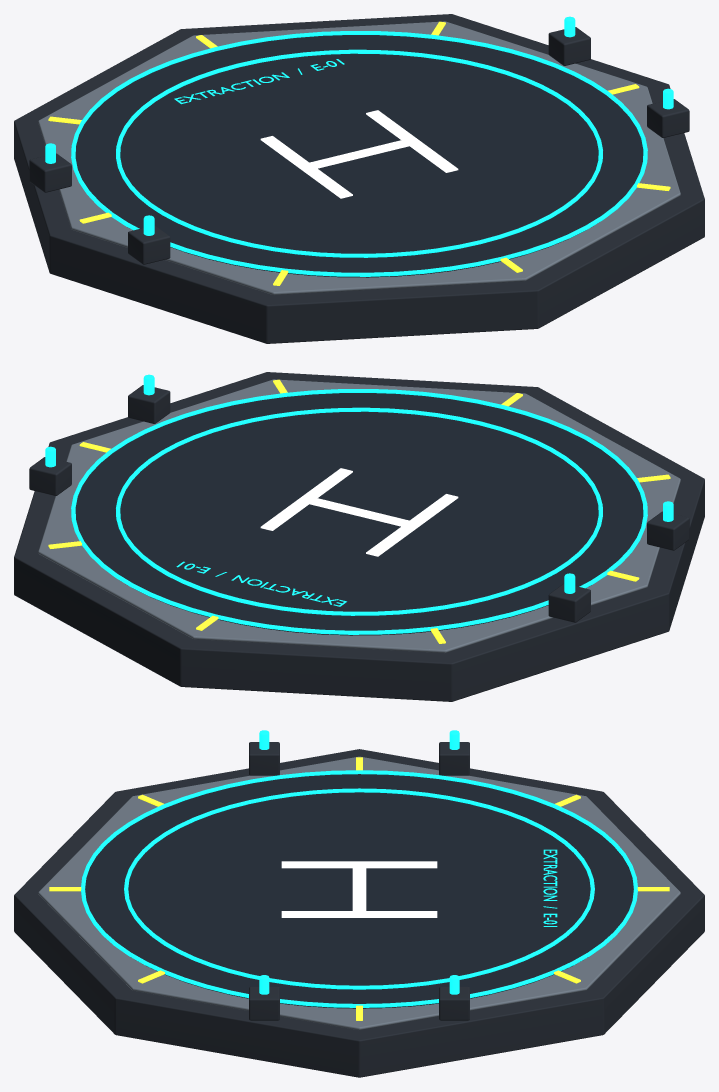
File: extraction_point.glb
3 renders of one model, top to bottom at view 1: azimuth 30°, elevation 25°; view 2: azimuth 150°, elevation 25°; view 3: azimuth 270°, elevation 25°, orthographic. The views are drawn at different scales.
Parts seen in each view (by area): view 1: Obsidian_deck_center, Octagonal_landing_platform, Landing_deck, Holographic_landing_marker.001, Holographic_landing_marker, Beacon_base.002, Beacon_base.001, Beacon_base.003, Beacon_base, H_landing_mark, H_landing_mark.001, H_landing_crossbar (+1 smaller); view 2: Obsidian_deck_center, Octagonal_landing_platform, Landing_deck, Holographic_landing_marker.001, Holographic_landing_marker, Beacon_base.003, Beacon_base, Beacon_base.002, Beacon_base.001, H_landing_mark, H_landing_mark.001, H_landing_crossbar (+1 smaller); view 3: Obsidian_deck_center, Octagonal_landing_platform, Landing_deck, Holographic_landing_marker.001, Holographic_landing_marker, H_landing_mark, H_landing_mark.001, Beacon_base.002, Beacon_base.003, Beacon_base, Beacon_base.001, H_landing_crossbar (+1 smaller).
Part boxes in pixels (x1=…): Obsidian_deck_center: x1=75, y1=35, x2=643, y2=277; Octagonal_landing_platform: x1=14, y1=14, x2=704, y2=343; Landing_deck: x1=38, y1=21, x2=680, y2=295; Holographic_landing_marker.001: x1=71, y1=31, x2=647, y2=276; Holographic_landing_marker: x1=116, y1=49, x2=602, y2=257; Beacon_base.002: x1=647, y1=99, x2=689, y2=137; Beacon_base.001: x1=29, y1=153, x2=71, y2=192; Beacon_base.003: x1=548, y1=27, x2=590, y2=65; Beacon_base: x1=128, y1=225, x2=170, y2=264; H_landing_mark: x1=260, y1=136, x2=352, y2=198; H_landing_mark.001: x1=366, y1=110, x2=458, y2=172; H_landing_crossbar: x1=299, y1=137, x2=419, y2=170; Obsidian_deck_center: x1=75, y1=393, x2=643, y2=635; Octagonal_landing_platform: x1=14, y1=372, x2=704, y2=701; Landing_deck: x1=38, y1=379, x2=680, y2=653; Holographic_landing_marker.001: x1=71, y1=389, x2=647, y2=634; Holographic_landing_marker: x1=116, y1=407, x2=602, y2=615; Beacon_base.003: x1=29, y1=457, x2=71, y2=495; Beacon_base: x1=647, y1=511, x2=689, y2=550; Beacon_base.002: x1=128, y1=385, x2=170, y2=423; Beacon_base.001: x1=548, y1=583, x2=590, y2=622; H_landing_mark: x1=366, y1=494, x2=458, y2=556; H_landing_mark.001: x1=260, y1=468, x2=352, y2=530; H_landing_crossbar: x1=299, y1=495, x2=419, y2=528; Obsidian_deck_center: x1=85, y1=774, x2=633, y2=1008; Octagonal_landing_platform: x1=14, y1=749, x2=704, y2=1077; Landing_deck: x1=38, y1=756, x2=680, y2=1030; Holographic_landing_marker.001: x1=81, y1=770, x2=637, y2=1007; Holographic_landing_marker: x1=124, y1=788, x2=594, y2=989; H_landing_mark: x1=281, y1=861, x2=437, y2=868; H_landing_mark.001: x1=281, y1=911, x2=437, y2=917; Beacon_base.002: x1=249, y1=986, x2=279, y2=1020; Beacon_base.003: x1=439, y1=986, x2=469, y2=1020; Beacon_base: x1=249, y1=742, x2=279, y2=775; Beacon_base.001: x1=439, y1=742, x2=469, y2=775; H_landing_crossbar: x1=352, y1=867, x2=366, y2=916.
Size of the model in its own units: 7.99 by 0.995 by 8.
